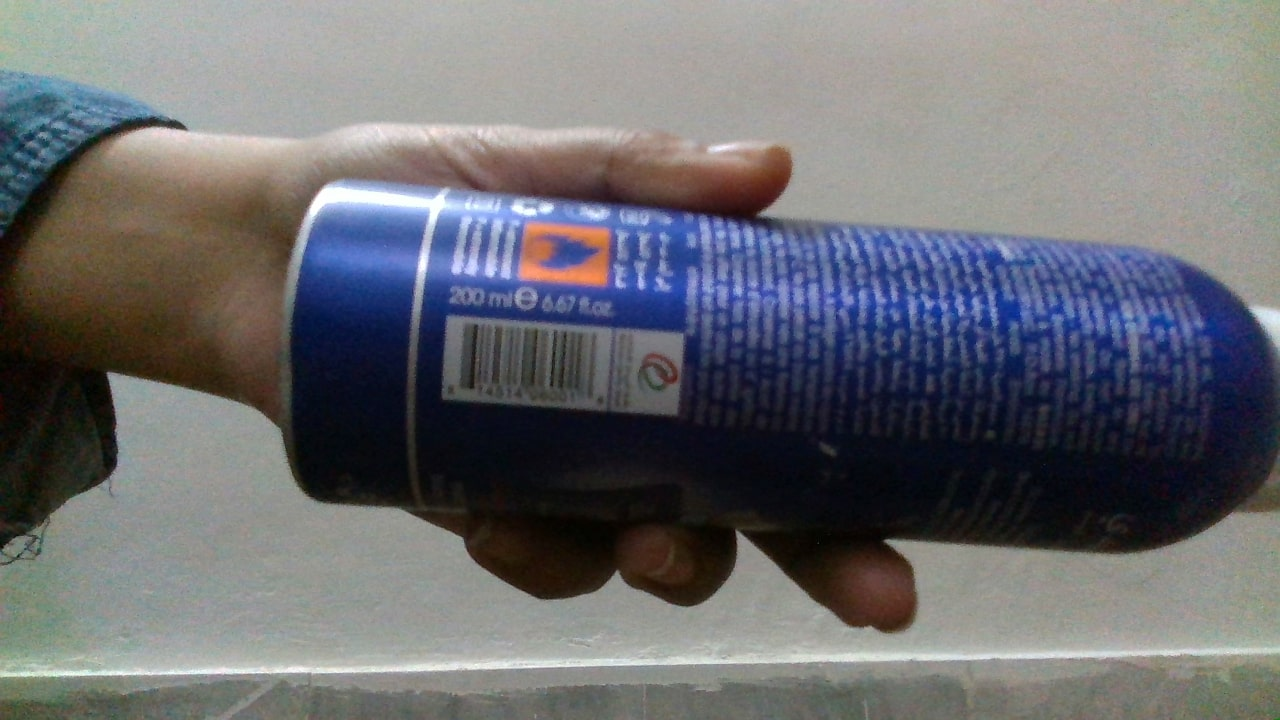Barcode: (457, 320, 601, 407)
